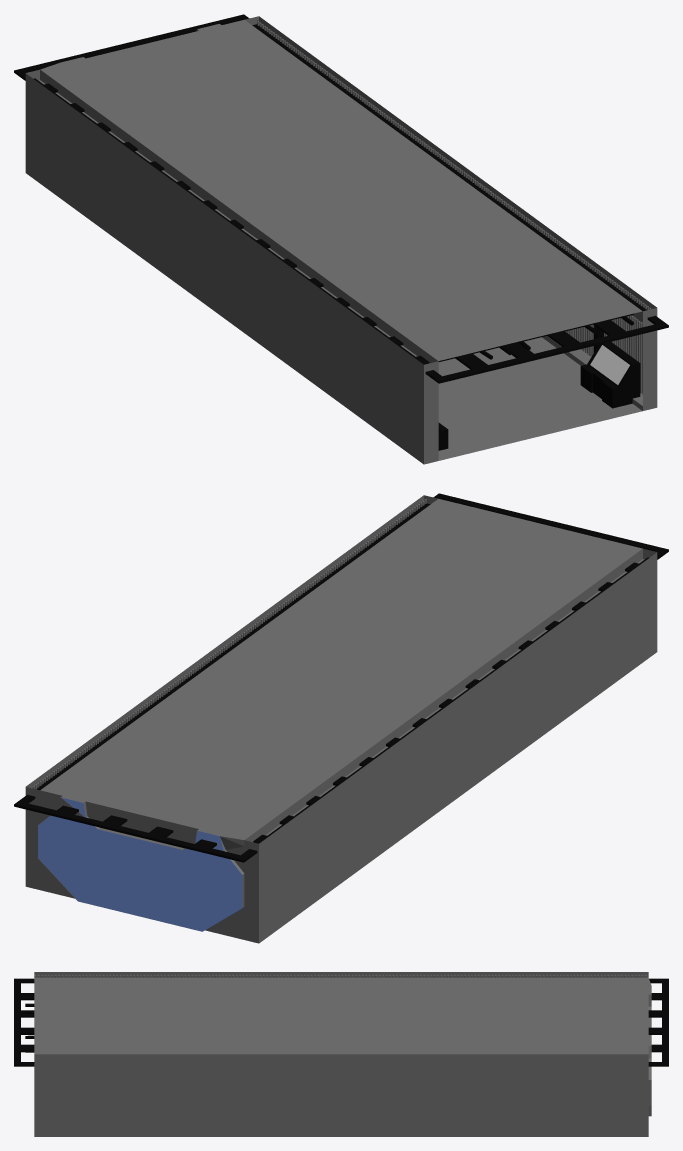
File: lobby.fbx
3 renders of one model, top to bottom at view 1: azimuth 30°, elevation 25°; view 2: azimuth 150°, elevation 25°; view 3: azimuth 270°, elevation 25°, orthographic. The views are drawn at different scales.
Visible parts, largest first — view 1: room, grid, wall, monitor; view 2: room, grid, wall; view 3: room, grid, wall.
Part boxes in pixels (x1,y1,x2,y2): room: (25, 16, 657, 464); grid: (14, 14, 668, 383); wall: (257, 20, 651, 394); monitor: (438, 342, 640, 450); room: (25, 495, 657, 943); grid: (14, 493, 668, 862); wall: (27, 499, 426, 867); room: (34, 972, 651, 1136); grid: (14, 978, 668, 1066); wall: (34, 975, 648, 977).
Size of the model in its own units: 2538 by 1037 by 8000.
